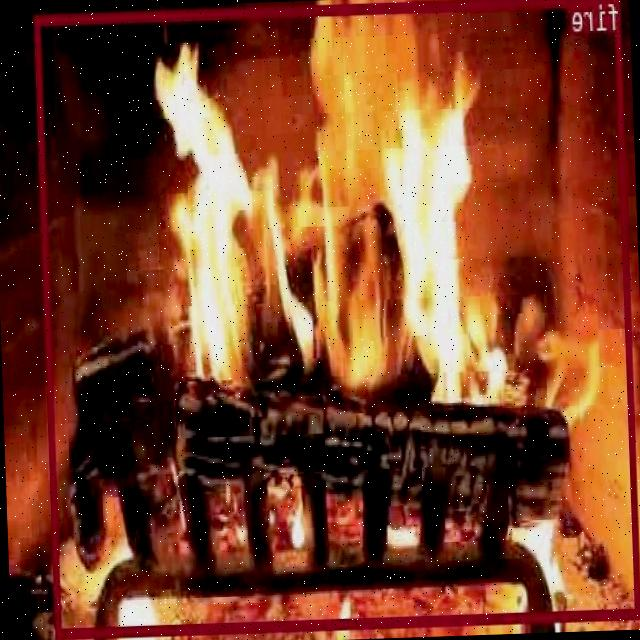fire: (35, 0, 640, 636)
